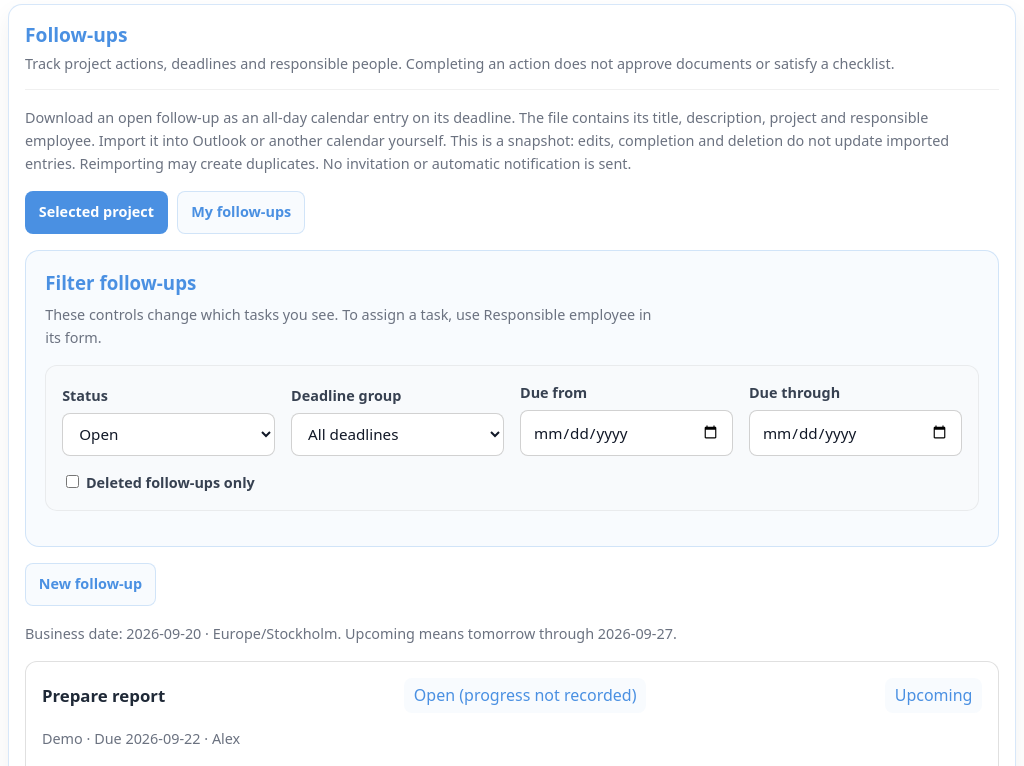
Scenario: creates once and queues edits made during the save using the returned revision
Click the button "New follow-up" at (90, 584), box [25, 563, 156, 606]
(page scrolled)
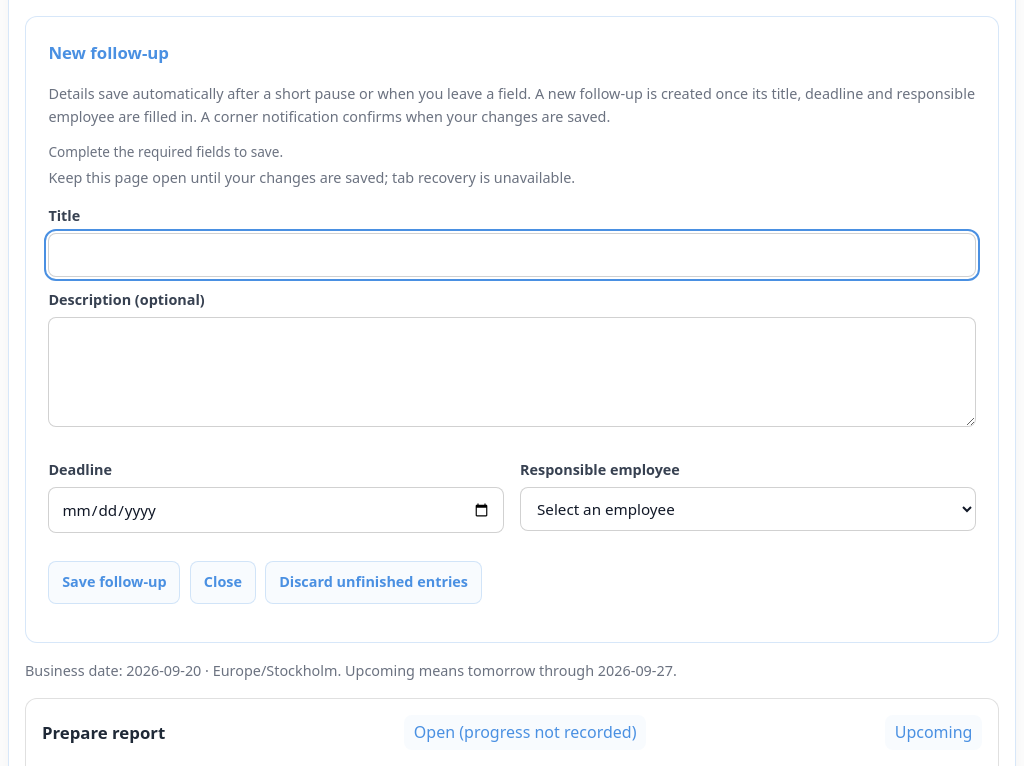
Type "Created automatically" into the field labelled "Title" at (512, 256), box [48, 234, 976, 278]
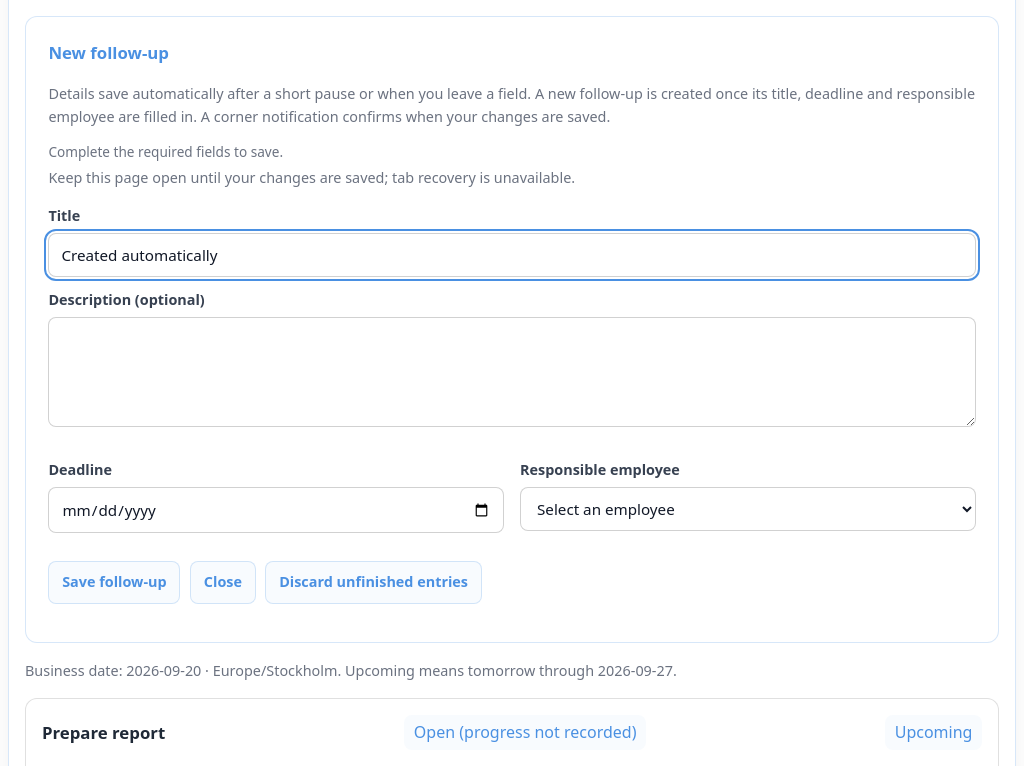
Type "2026-10-28" into the date field labelled "Deadline" at (276, 510), box [48, 487, 504, 533]
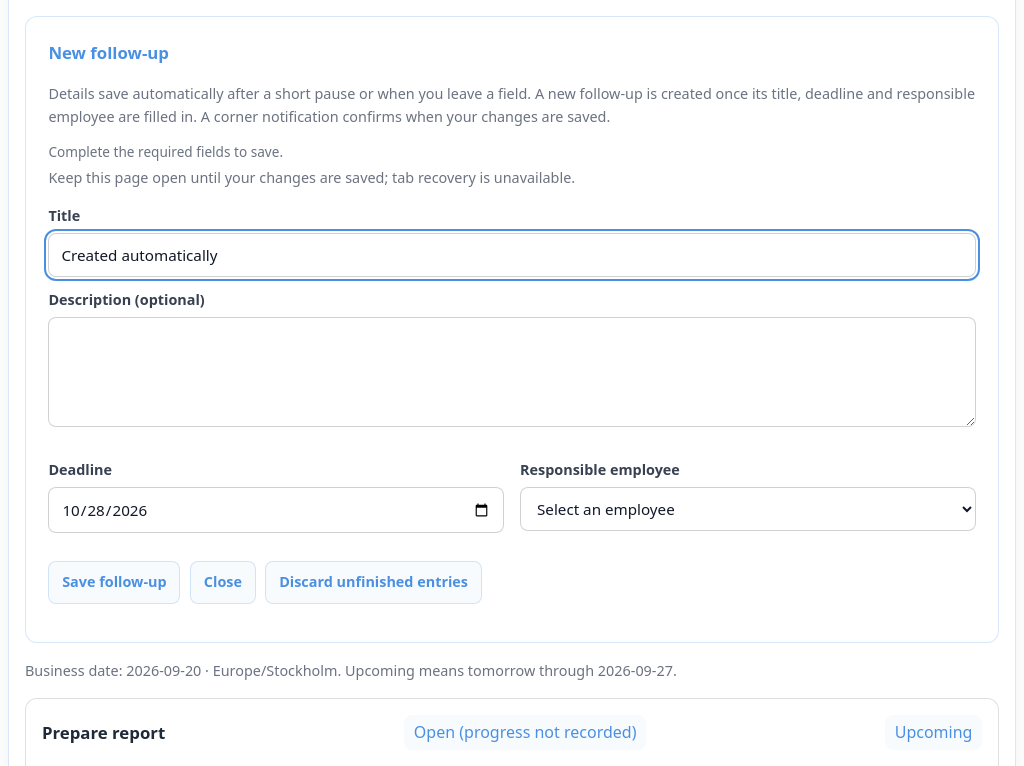
Select "Alex" in the dropdown labelled "Responsible employee" at (748, 509), box [520, 487, 976, 531]
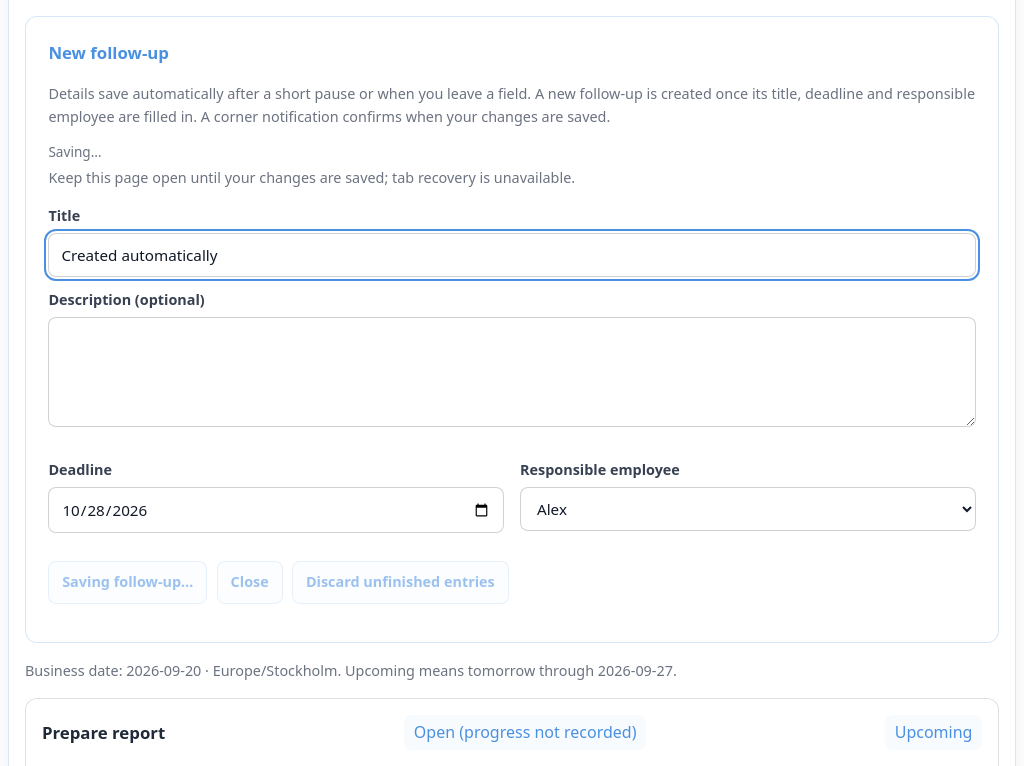
Check: the text "Saving…" is shown, box [48, 142, 101, 161]
Type "Typed while saving" into the text box labelled "Description (optional)" at (512, 372), box [48, 317, 976, 427]
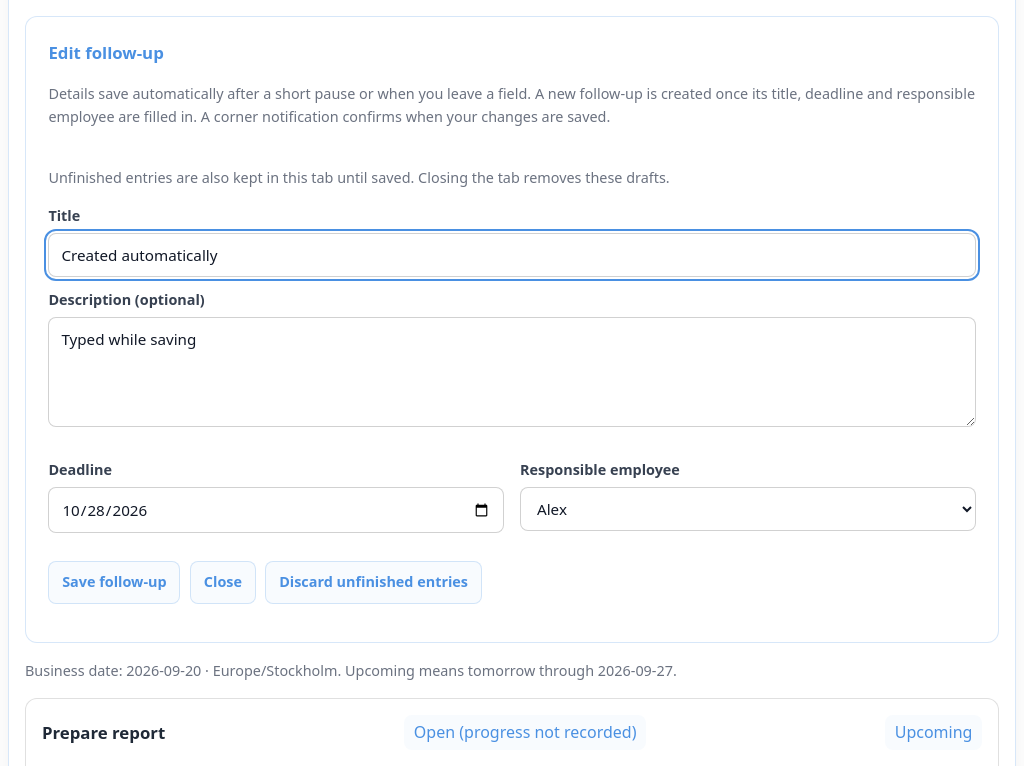
Check: the button "Close" is enabled, box [190, 561, 256, 604]
